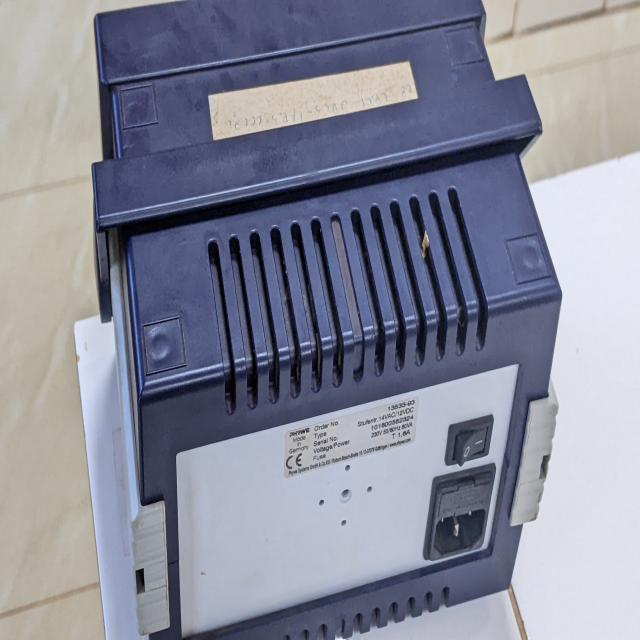Power Supply Stufentrafo_75VA: (82, 0, 566, 640)
